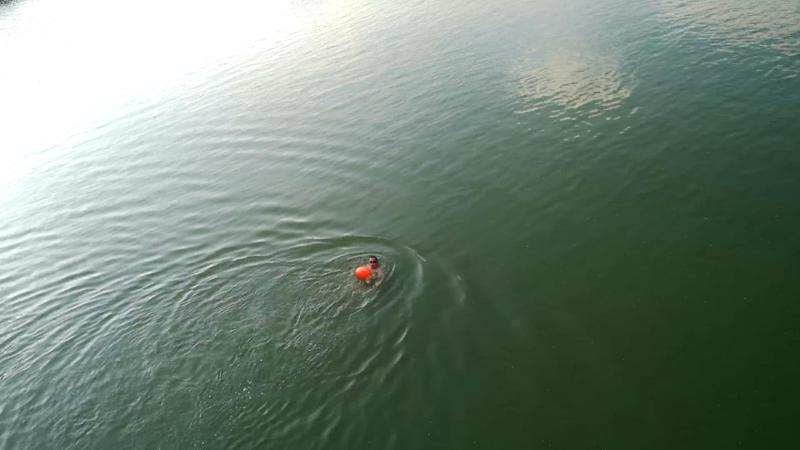swimmers: (355, 254, 383, 286)
